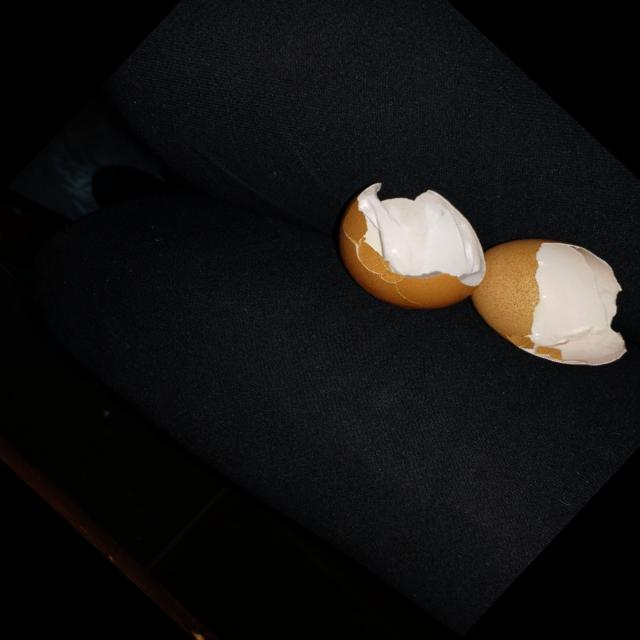organic: (311, 105, 640, 447)
